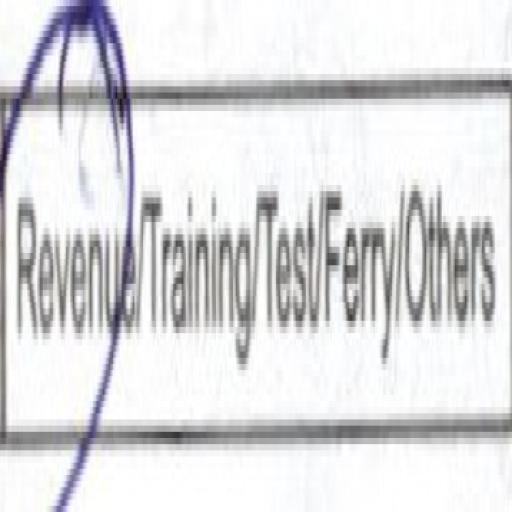check: (0, 18, 136, 512)
